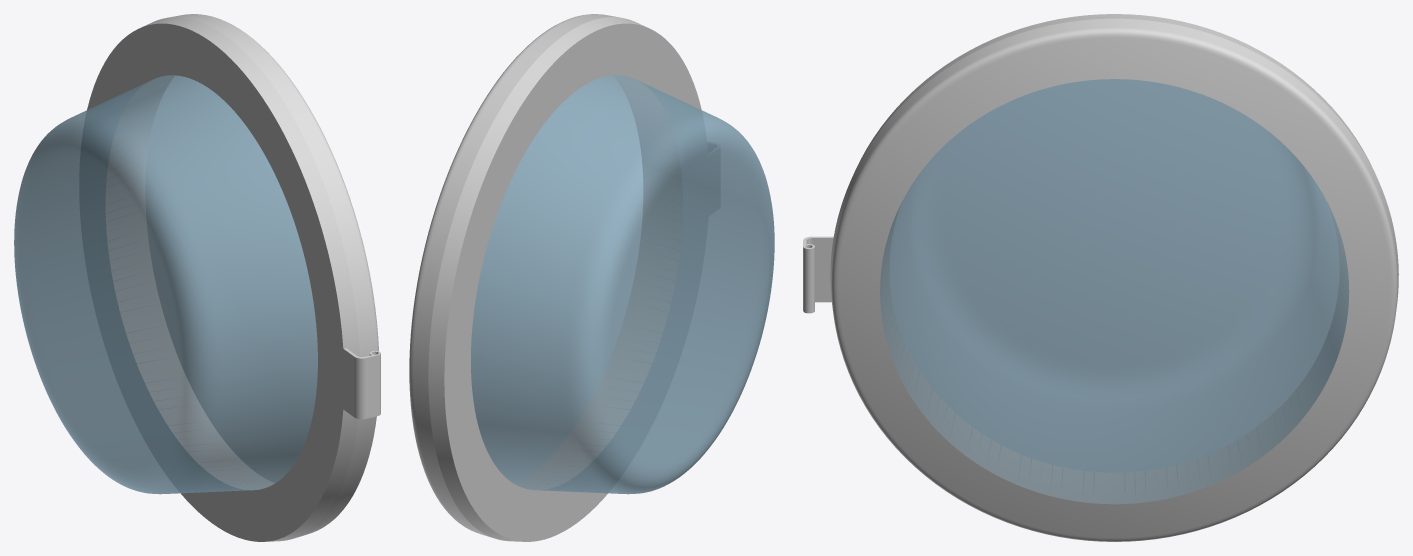
The model's file is door.dae.
The picture shows the model from 3 angles, left to right: view 1: azimuth 30°, elevation 25°; view 2: azimuth 150°, elevation 25°; view 3: azimuth 270°, elevation 25°; orthographic projection. The views are drawn at different scales.
Visible parts, largest first — view 1: Brep (×3); view 2: Brep (×2); view 3: Brep (×3).
Boxes of the visible parts, x1,y1,x2,y2 form: Brep (×3): (14, 14, 380, 541); Brep (×2): (409, 14, 774, 541); Brep (×3): (803, 14, 1398, 541).
Bounding box in the file's own units: 181 × 503 × 480.
